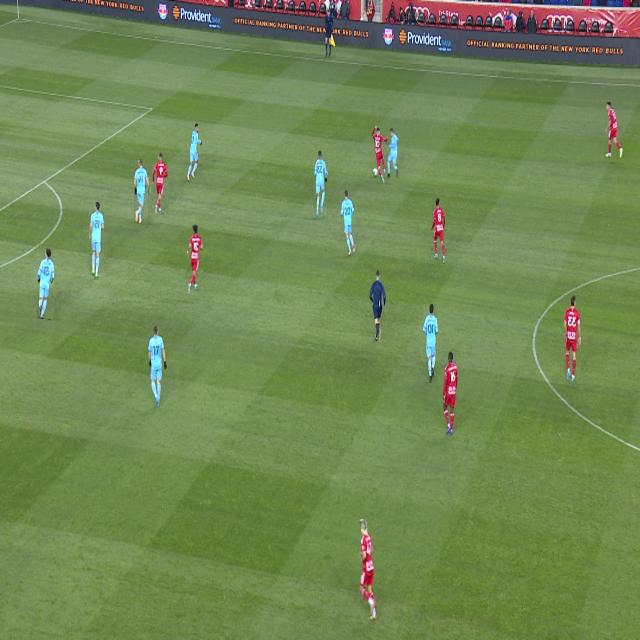football: (373, 169, 378, 177)
player: (359, 519, 376, 614), (148, 325, 166, 407), (564, 296, 581, 382), (443, 352, 458, 435), (37, 249, 54, 319), (423, 304, 438, 382), (89, 202, 104, 278), (187, 225, 203, 295), (605, 102, 623, 158), (152, 153, 168, 215), (341, 190, 355, 256), (372, 126, 388, 183), (186, 123, 202, 180), (135, 159, 148, 224), (432, 199, 445, 264), (315, 151, 327, 217), (387, 128, 399, 177)
referee: (370, 270, 385, 342)
